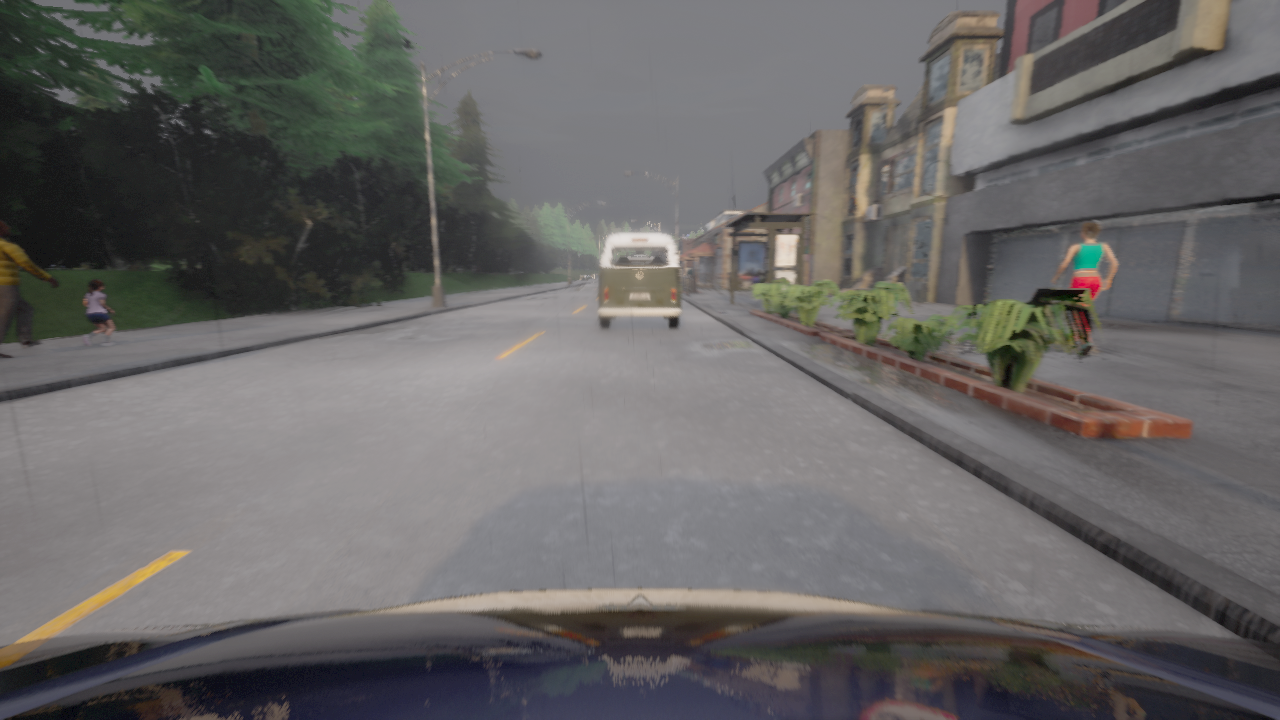cyclist: (0, 588, 1279, 719), (597, 232, 681, 328)
pedestrian: (1052, 221, 1116, 355), (83, 279, 114, 345)
